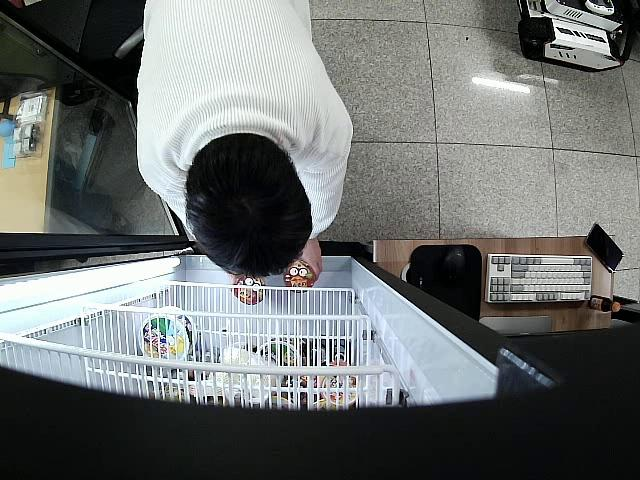00_hand: (298, 237, 324, 281)
06_nuguri_S: (284, 263, 315, 293)
